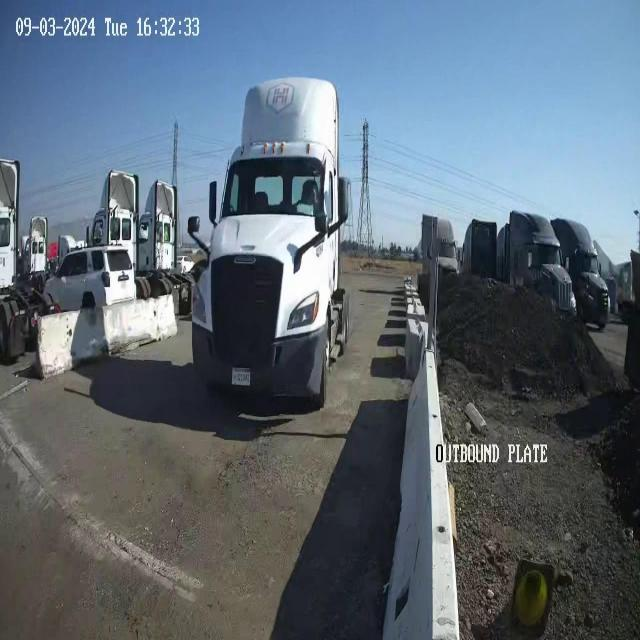TRUCK_OUT: (186, 76, 352, 410)
